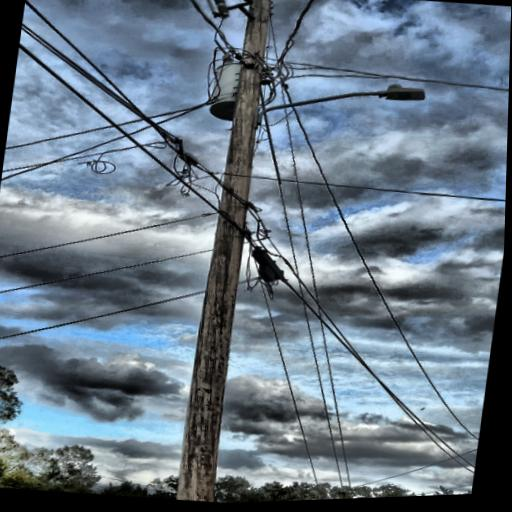pole: (172, 0, 292, 505)
street light: (250, 65, 427, 130)
transformer: (204, 55, 270, 125)
